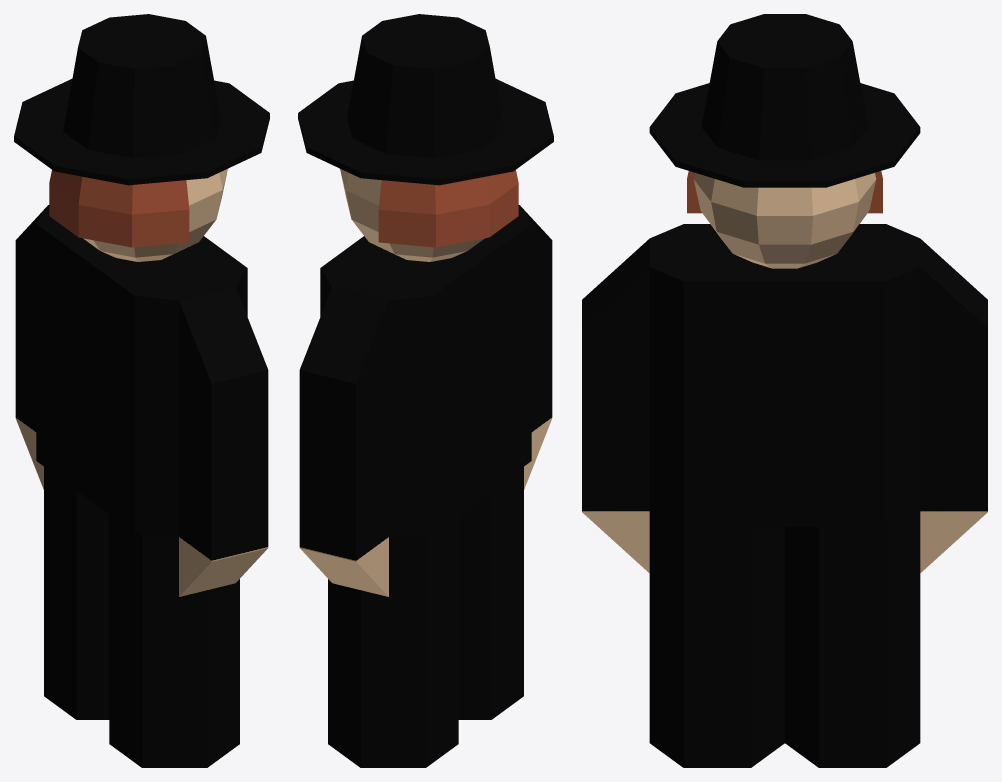
The model's file is Player.fbx.
3 renders of one model, left to right at view 1: azimuth 30°, elevation 25°; view 2: azimuth 150°, elevation 25°; view 3: azimuth 270°, elevation 25°, orthographic. The views are drawn at different scales.
Parts seen in each view (by area): view 1: Player; view 2: Player; view 3: Player.
Part boxes in pixels (x1,y1,x2,y2): Player: [14, 14, 269, 767]; Player: [298, 14, 553, 767]; Player: [582, 14, 987, 767].
Bounding box in the file's own units: 38.04 × 114 × 60.
Materials: 1 (1 with a texture image).
